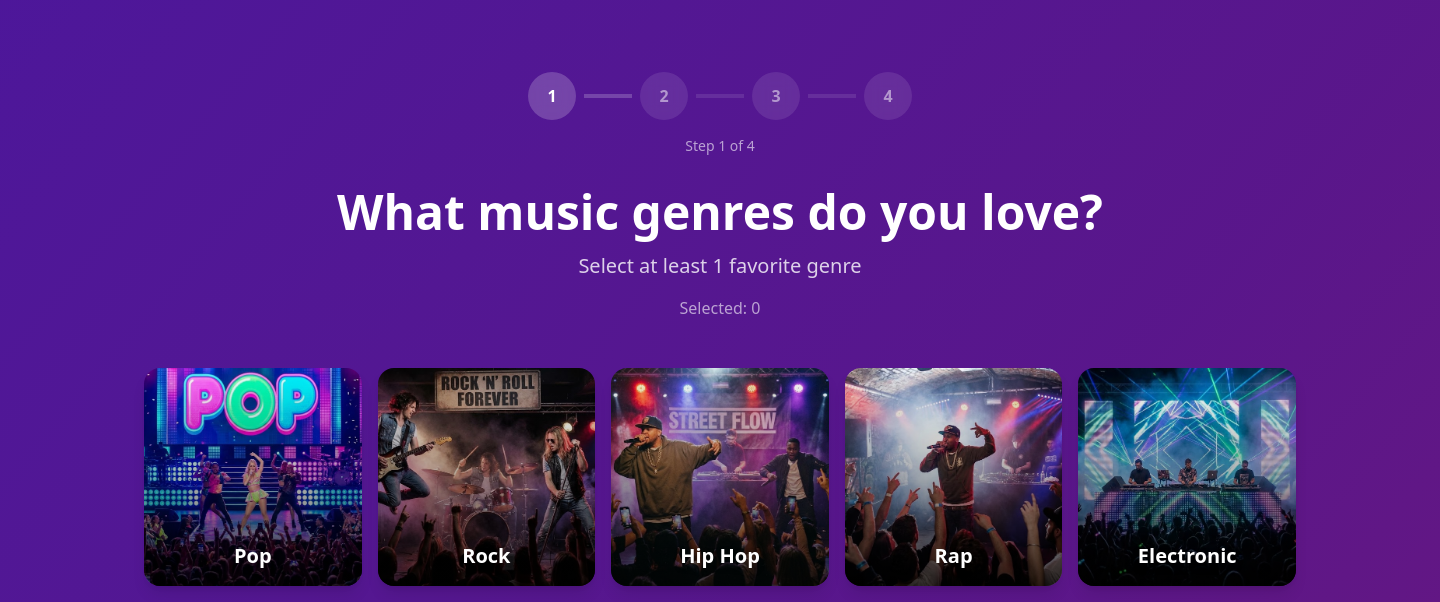
Test: GenreSelection Component › should allow selecting genres
What coordinates should you click on to do the following:
click the button "Pop"
I would click on:
 (253, 477)
Its box is [144, 368, 362, 586].
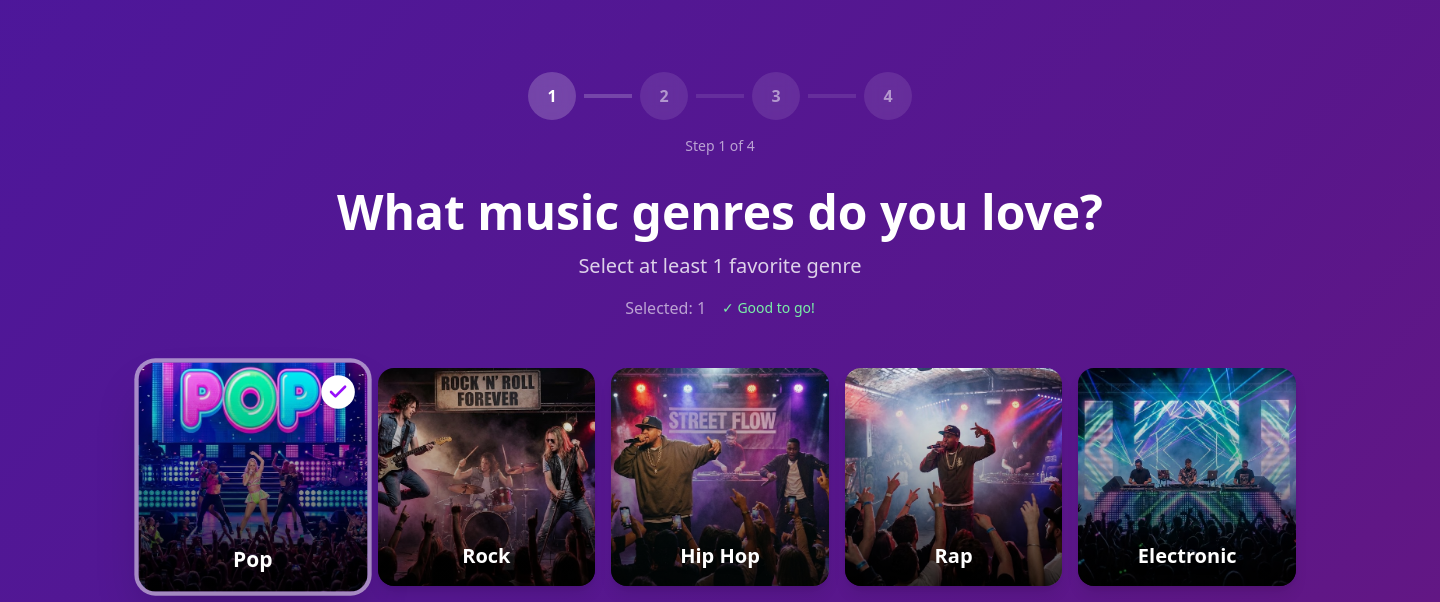
Now the text "Selected: 1" is shown, box [625, 296, 706, 320]
